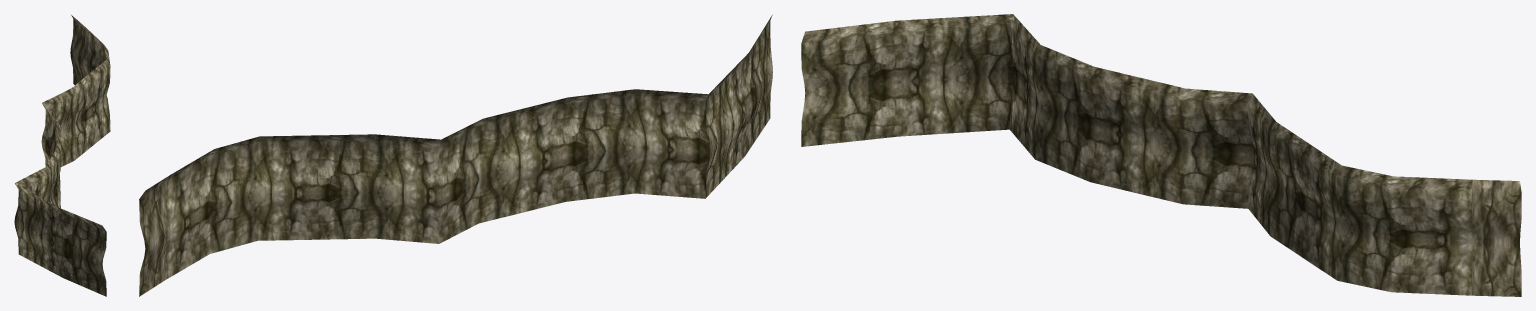
Rendered from CB_NEWPLAYSURFACE_CB_PLAYSURFACE39.fbx.
3 renders of one model, left to right at view 1: azimuth 30°, elevation 25°; view 2: azimuth 150°, elevation 25°; view 3: azimuth 270°, elevation 25°, orthographic. The views are drawn at different scales.
Visible parts, largest first — view 1: CB_NEWPLAYSURFACE_CB_PLAYSURFACE39; view 2: CB_NEWPLAYSURFACE_CB_PLAYSURFACE39; view 3: CB_NEWPLAYSURFACE_CB_PLAYSURFACE39.
Part boxes in pixels (bbox=[...]): CB_NEWPLAYSURFACE_CB_PLAYSURFACE39: bbox=[14, 15, 110, 296]; CB_NEWPLAYSURFACE_CB_PLAYSURFACE39: bbox=[139, 15, 772, 296]; CB_NEWPLAYSURFACE_CB_PLAYSURFACE39: bbox=[801, 14, 1521, 296].
Bounding box in the file's own units: 236640 × 73541 × 424381.
1 material, 1 textured.
